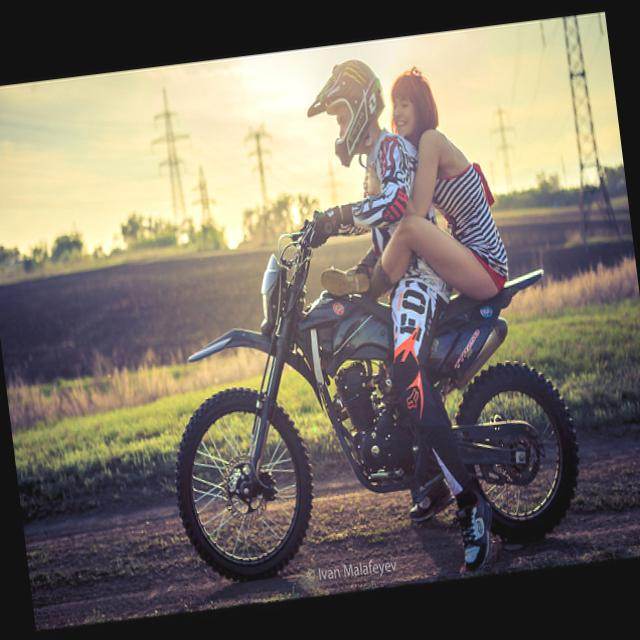Vehicle: (147, 200, 591, 586)
